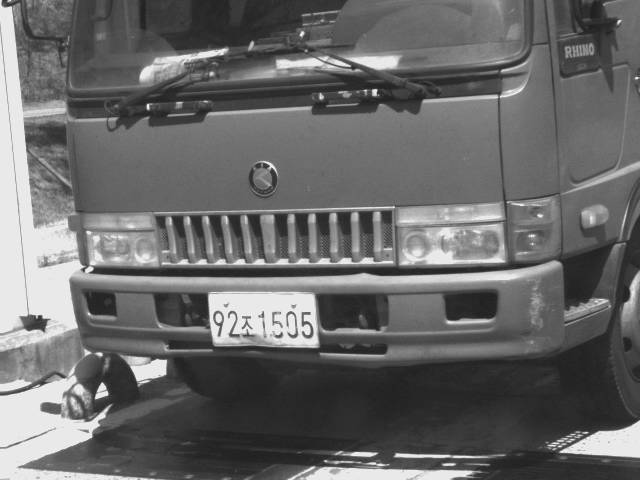car: (1, 1, 639, 428)
plate: (208, 291, 320, 348)
